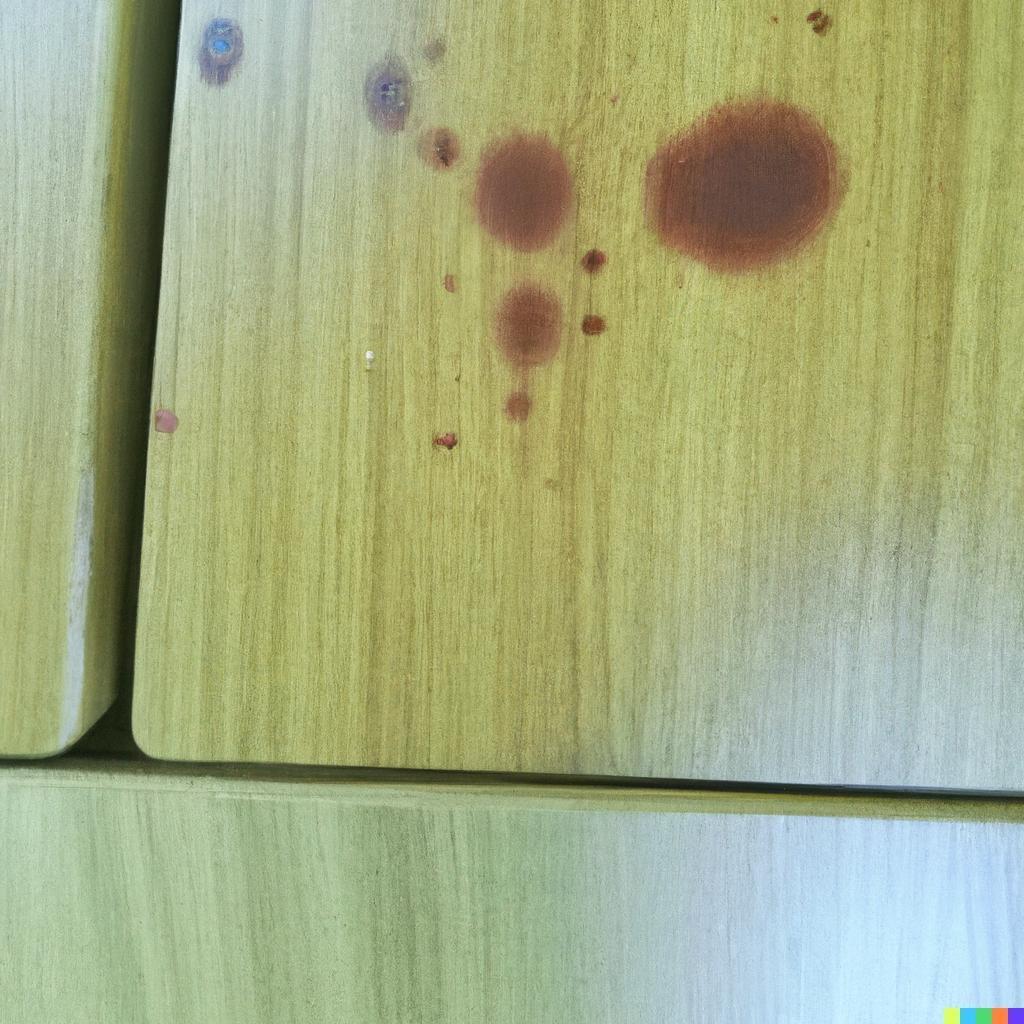Bloodstain-Detection: (646, 100, 845, 265), (474, 142, 568, 238), (502, 288, 557, 368), (368, 60, 413, 128)
